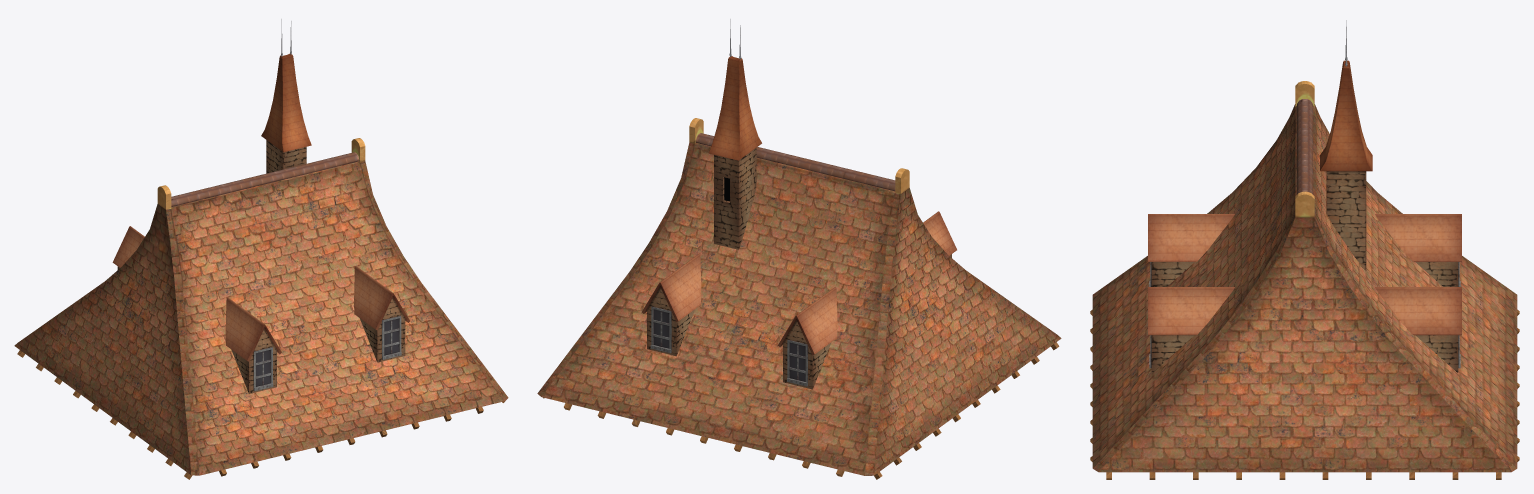
The model's file is sb_obj_outdoor001_Castle01_roof01.fbx.
3 renders of one model, left to right at view 1: azimuth 30°, elevation 25°; view 2: azimuth 150°, elevation 25°; view 3: azimuth 270°, elevation 25°, orthographic. The views are drawn at different scales.
Visible parts, largest first — view 1: sb_obj_outdoor001_Castle01_roof01; view 2: sb_obj_outdoor001_Castle01_roof01; view 3: sb_obj_outdoor001_Castle01_roof01.
Boxes of the visible parts, x1,y1,x2,y2 form: sb_obj_outdoor001_Castle01_roof01: [14, 19, 508, 479]; sb_obj_outdoor001_Castle01_roof01: [537, 19, 1061, 479]; sb_obj_outdoor001_Castle01_roof01: [1090, 20, 1519, 479].
Bounding box in the file's own units: 9.98 × 10.15 × 9.92.
